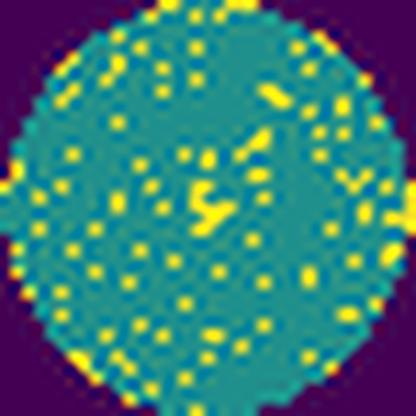Center: (182, 172, 240, 237)
